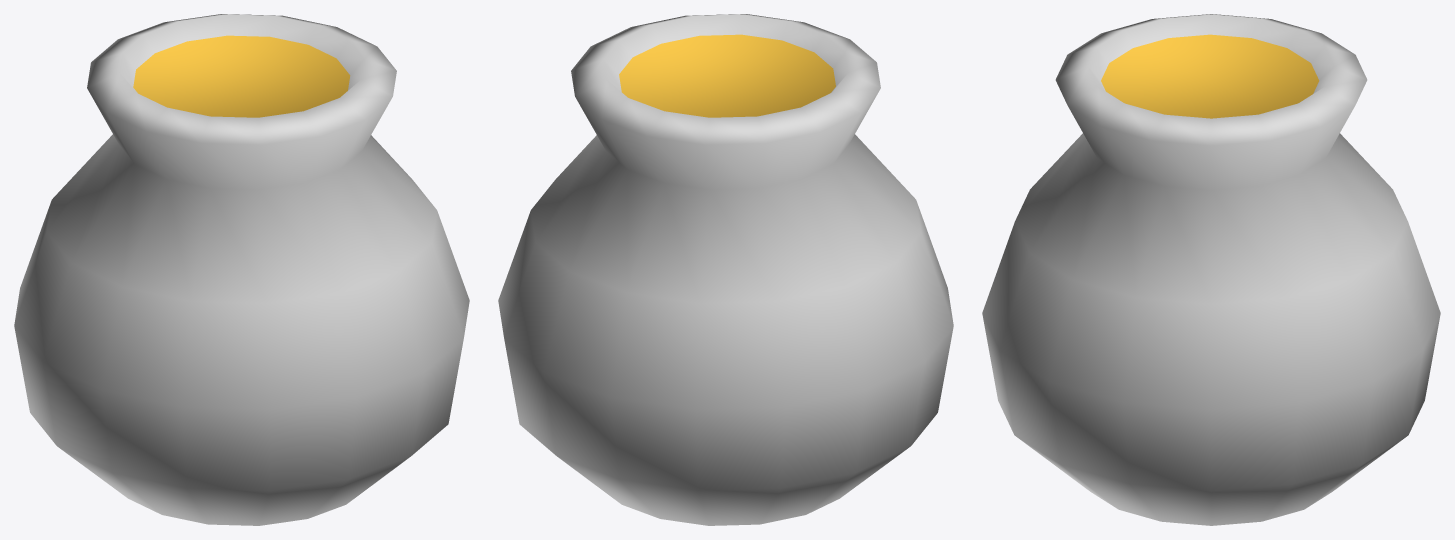
File: Jar.glb
3 views of the same model, side by side, from view 1: azimuth 30°, elevation 25°; view 2: azimuth 150°, elevation 25°; view 3: azimuth 270°, elevation 25° (orthographic).
Parts seen in each view (by area): view 1: Jar; view 2: Jar; view 3: Jar.
Part boxes in pixels (box(x1,y1,x2,y2)): Jar: box(14, 14, 469, 525); Jar: box(498, 14, 953, 525); Jar: box(982, 14, 1440, 525).
Size of the model in its own units: 2 by 1.94 by 2.
